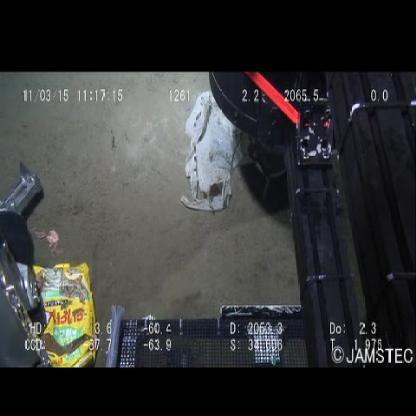Rov: (207, 72, 416, 302), (100, 300, 416, 365), (1, 158, 52, 369)
Rác: (176, 86, 251, 218), (32, 258, 99, 368)
